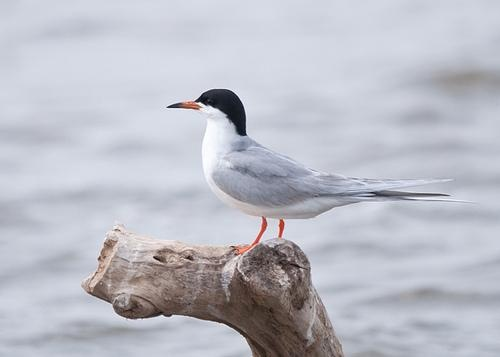bird: (165, 88, 476, 257)
